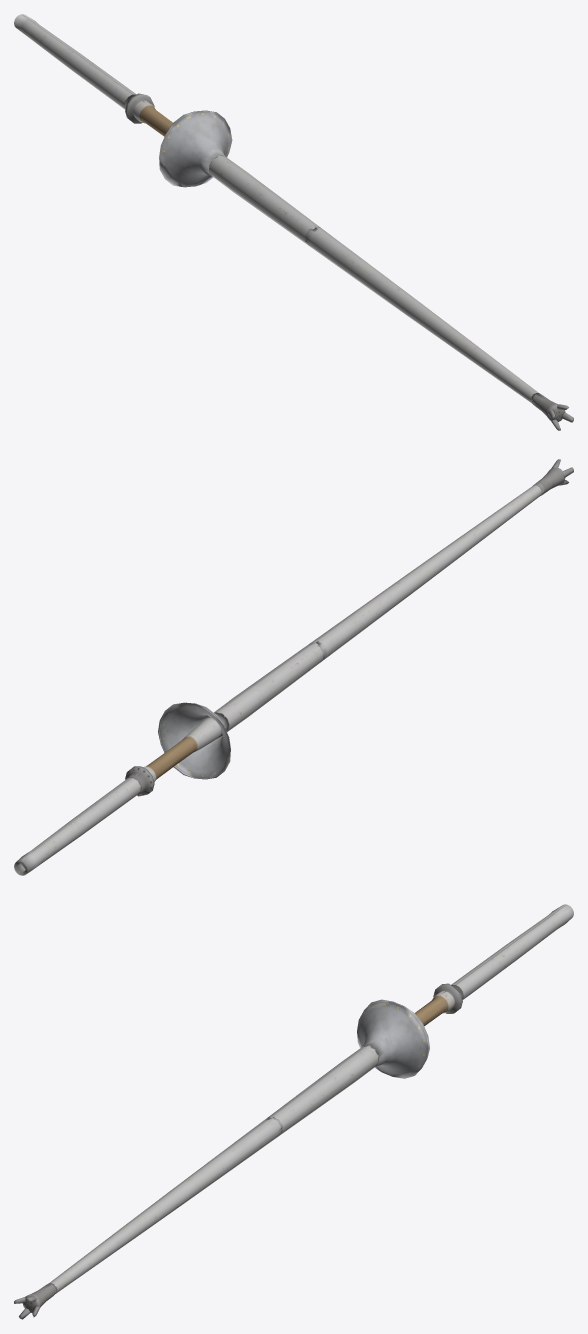
Rendered from lance_light_lod.glb.
3 views of the same model, one above another, from view 1: azimuth 30°, elevation 25°; view 2: azimuth 150°, elevation 25°; view 3: azimuth 330°, elevation 25° (orthographic).
Parts seen in each view (by area): view 1: lance_rear, lance_fore, lance_vamplate, coronel; view 2: lance_rear, lance_fore, lance_vamplate, coronel; view 3: lance_rear, lance_fore, lance_vamplate, coronel.
Part boxes in pixels (bbox=[...]): lance_rear: bbox=[14, 14, 320, 246]; lance_fore: bbox=[307, 227, 538, 402]; lance_vamplate: bbox=[159, 110, 232, 187]; coronel: bbox=[530, 393, 573, 430]; lance_rear: bbox=[14, 642, 324, 875]; lance_fore: bbox=[310, 485, 541, 661]; lance_vamplate: bbox=[158, 702, 230, 779]; coronel: bbox=[533, 459, 573, 495]; lance_rear: bbox=[267, 904, 573, 1136]; lance_fore: bbox=[49, 1118, 280, 1292]; lance_vamplate: bbox=[357, 999, 429, 1078]; coronel: bbox=[14, 1283, 57, 1319].
Bounding box in the file's own units: 0.2651 × 0.2605 × 3.42.
1 material, 1 textured.
